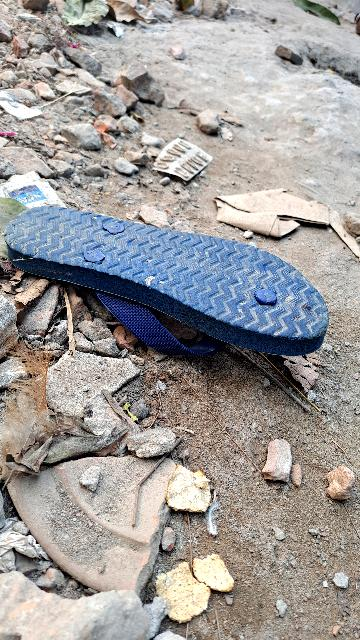sandal: (6, 192, 340, 357)
